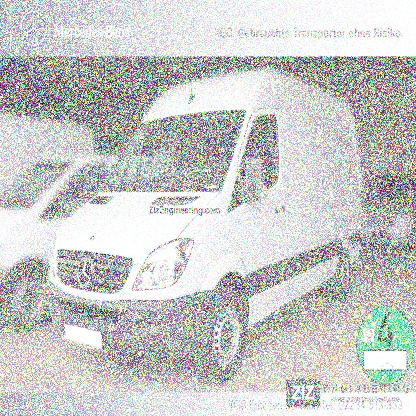Vehicle: (49, 69, 363, 384)
